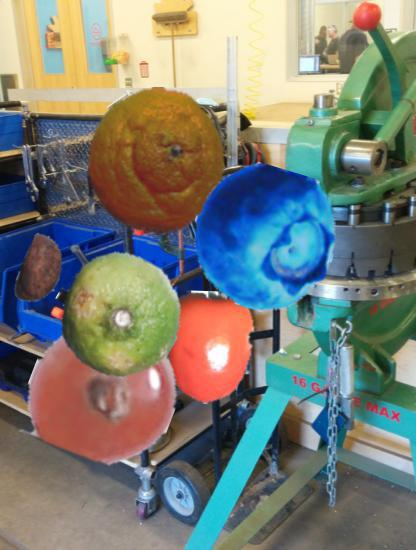Chestnut: (5, 235, 77, 307)
Huckleberry: (193, 167, 336, 310)
Kaki: (153, 291, 267, 405)
Limes: (55, 252, 182, 379)
Mandarine: (82, 87, 231, 236)
Redcurrant: (30, 318, 177, 465)
